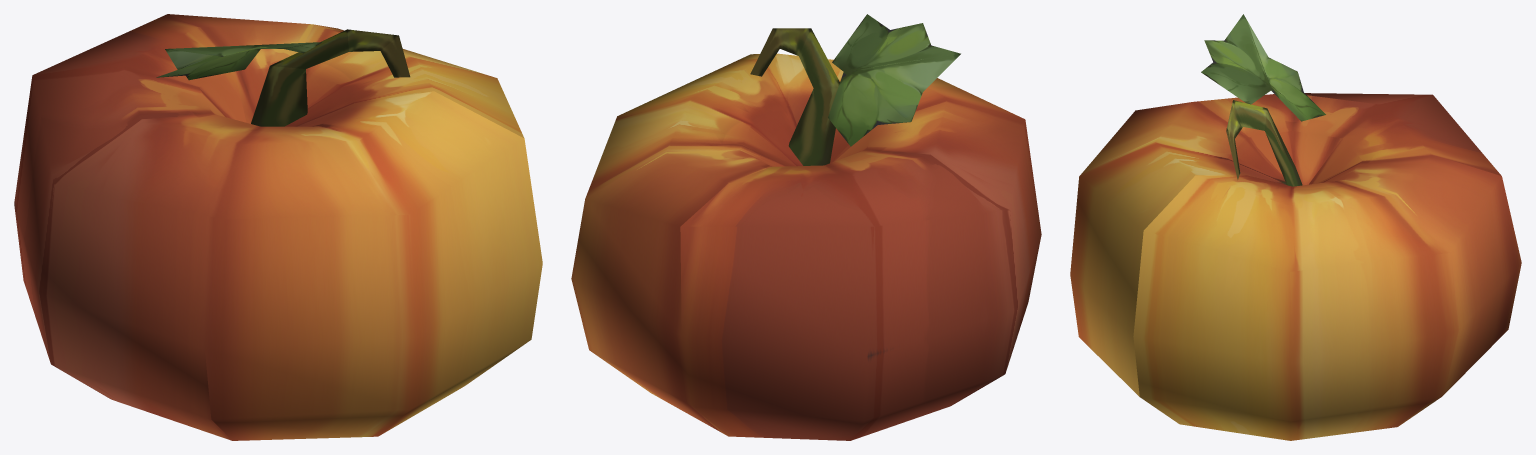
File: Pumpkin_01.glb
The picture shows the model from 3 angles, left to right: view 1: azimuth 30°, elevation 25°; view 2: azimuth 150°, elevation 25°; view 3: azimuth 270°, elevation 25°; orthographic projection. The views are drawn at different scales.
Parts seen in each view (by area): view 1: Pumpkin_01; view 2: Pumpkin_01; view 3: Pumpkin_01.
Part boxes in pixels (<box>): Pumpkin_01: <box>14,14,542,440</box>; Pumpkin_01: <box>571,14,1041,440</box>; Pumpkin_01: <box>1070,14,1521,440</box>.
Bounding box in the file's own units: 1.34 × 1.12 × 1.35.
1 material, 1 textured.
